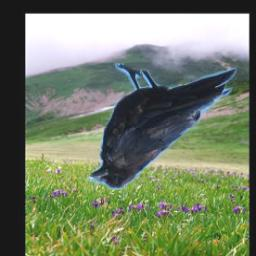Crow: (86, 64, 237, 191)
